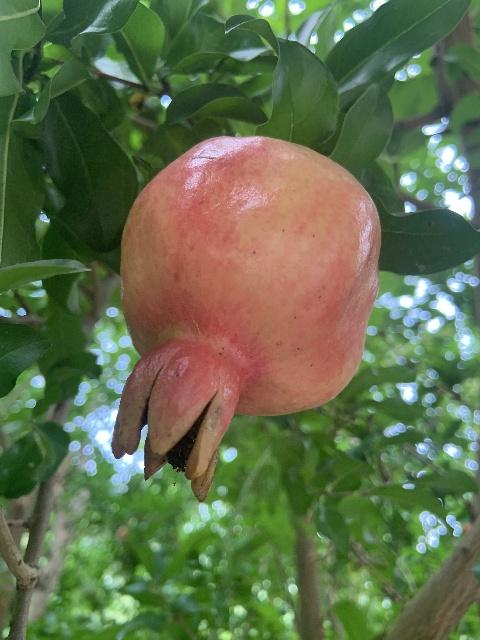ripe: (111, 135, 380, 502)
